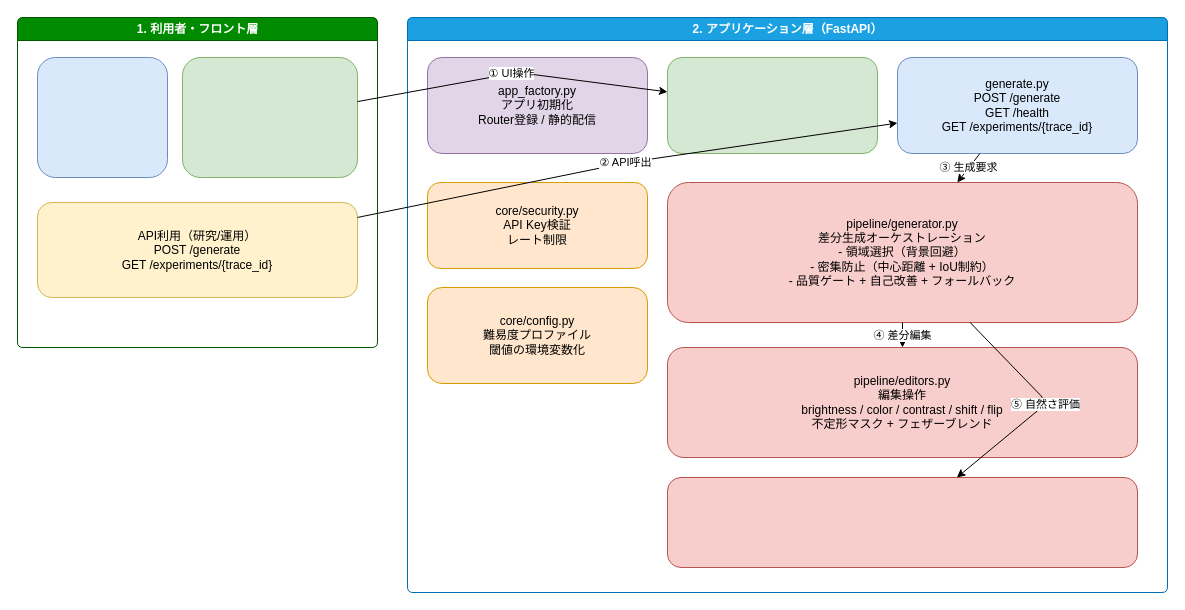
Some shapes in this 1185 by 610 pixel diagram are drawn without their labels. The shapes that lost their labels are listed below. From the top down, each one's centre as x and y in pixels, then its label:
At pixel 102 117: "ブラウザ".
At pixel 270 117: "デモUI（HTMX） - 画像アップロード・プレビュー - パラメータ指定 - クリックゲーム".
At pixel 772 105: "demo.py GET /demo POST /demo/process".
At pixel 902 522: "pipeline/naturalness.py 自然さ評価 mean_abs_diff + edge_delta + 合成スコア".
